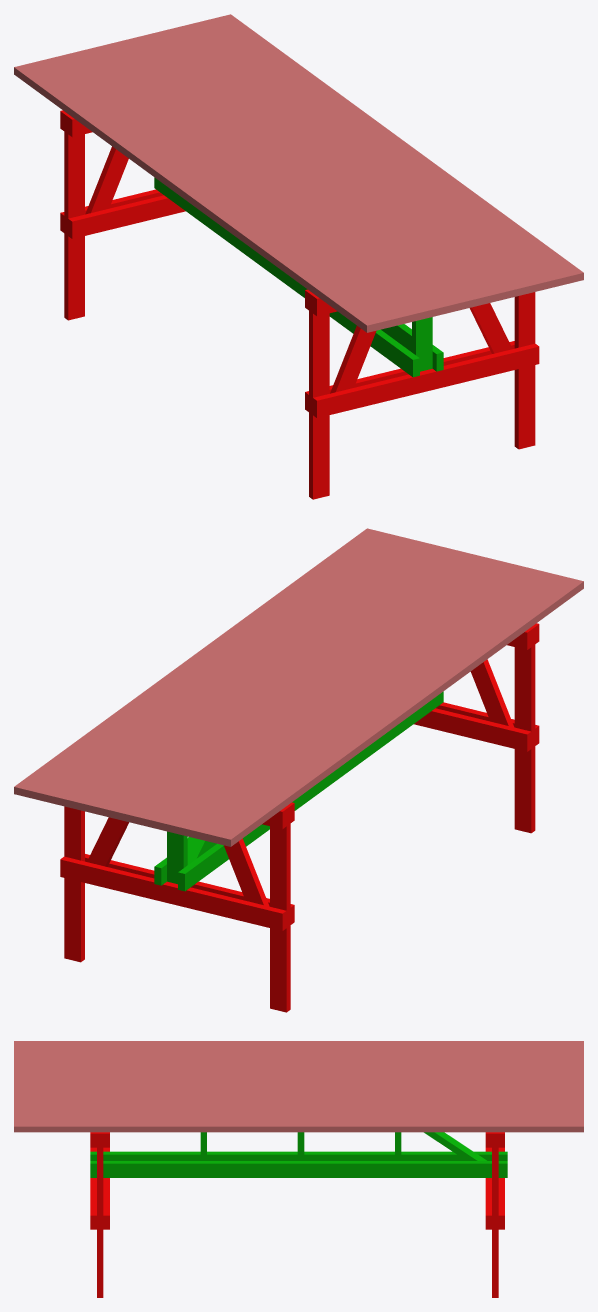
The model's file is result.glb.
3 renders of one model, top to bottom at view 1: azimuth 30°, elevation 25°; view 2: azimuth 150°, elevation 25°; view 3: azimuth 270°, elevation 25°, orthographic. The views are drawn at different scales.
Parts seen in each view (by area): view 1: b0ff7aa3-63b9-4274-8775-f03543e804c5__Box, 8a51c125-2184-49c3-aa8c-6ed3c1e245f1__undefined, 63a2d8ec-7d1e-43ad-b525-d0bd597307d5__undefined, 224cc83f-32d5-4830-80f7-22d6222e75fd__undefined, cf554587-6346-48e8-9315-8ca3bc5b0333__undefined, 17b7643c-f3f9-45be-bab3-a139f6fe4bf6__undefined, db4b5102-53e1-4171-a927-6ad9ff82a675__undefined, bbc29288-81eb-4e65-8e6f-227f224e3b87__undefined, c42242fd-0d0c-46da-bf98-edceeb7c8d5b__undefined, c6f3afab-13e9-4b4d-8a23-2f817cac41b8__undefined, 483e12ce-3217-46a9-8e0e-043e027c3335__undefined, faf76bed-afd3-4334-aac3-b5a1dc08d141__undefined (+13 smaller); view 2: b0ff7aa3-63b9-4274-8775-f03543e804c5__Box, 224cc83f-32d5-4830-80f7-22d6222e75fd__undefined, 63a2d8ec-7d1e-43ad-b525-d0bd597307d5__undefined, 8a51c125-2184-49c3-aa8c-6ed3c1e245f1__undefined, cf554587-6346-48e8-9315-8ca3bc5b0333__undefined, 17b7643c-f3f9-45be-bab3-a139f6fe4bf6__undefined, a9f0cf16-2922-4852-8234-135ff4b6b006__undefined, bbc29288-81eb-4e65-8e6f-227f224e3b87__undefined, c42242fd-0d0c-46da-bf98-edceeb7c8d5b__undefined, db4b5102-53e1-4171-a927-6ad9ff82a675__undefined, faf76bed-afd3-4334-aac3-b5a1dc08d141__undefined, 483e12ce-3217-46a9-8e0e-043e027c3335__undefined (+12 smaller); view 3: 483e12ce-3217-46a9-8e0e-043e027c3335__undefined, a4d03725-af21-4c59-820a-ca1d06299c51__strutH, 8a51c125-2184-49c3-aa8c-6ed3c1e245f1__undefined, cf554587-6346-48e8-9315-8ca3bc5b0333__undefined, faf76bed-afd3-4334-aac3-b5a1dc08d141__undefined, b0ff7aa3-63b9-4274-8775-f03543e804c5__Box, 63a2d8ec-7d1e-43ad-b525-d0bd597307d5__undefined, bbc29288-81eb-4e65-8e6f-227f224e3b87__undefined, c42242fd-0d0c-46da-bf98-edceeb7c8d5b__undefined, 224cc83f-32d5-4830-80f7-22d6222e75fd__undefined, c6f3afab-13e9-4b4d-8a23-2f817cac41b8__undefined, a9f0cf16-2922-4852-8234-135ff4b6b006__undefined (+10 smaller).
Part boxes in pixels (<box>): b0ff7aa3-63b9-4274-8775-f03543e804c5__Box: <box>14,63,383,332</box>; 8a51c125-2184-49c3-aa8c-6ed3c1e245f1__undefined: <box>31,59,400,328</box>; 63a2d8ec-7d1e-43ad-b525-d0bd597307d5__undefined: <box>48,55,417,324</box>; 224cc83f-32d5-4830-80f7-22d6222e75fd__undefined: <box>97,43,467,312</box>; cf554587-6346-48e8-9315-8ca3bc5b0333__undefined: <box>148,30,517,300</box>; 17b7643c-f3f9-45be-bab3-a139f6fe4bf6__undefined: <box>198,18,567,287</box>; db4b5102-53e1-4171-a927-6ad9ff82a675__undefined: <box>164,26,533,296</box>; bbc29288-81eb-4e65-8e6f-227f224e3b87__undefined: <box>64,51,433,320</box>; c42242fd-0d0c-46da-bf98-edceeb7c8d5b__undefined: <box>81,47,450,316</box>; c6f3afab-13e9-4b4d-8a23-2f817cac41b8__undefined: <box>114,38,483,308</box>; 483e12ce-3217-46a9-8e0e-043e027c3335__undefined: <box>214,14,583,283</box>; faf76bed-afd3-4334-aac3-b5a1dc08d141__undefined: <box>181,22,550,291</box>; b0ff7aa3-63b9-4274-8775-f03543e804c5__Box: <box>214,577,583,846</box>; 224cc83f-32d5-4830-80f7-22d6222e75fd__undefined: <box>130,557,499,826</box>; 63a2d8ec-7d1e-43ad-b525-d0bd597307d5__undefined: <box>180,569,550,838</box>; 8a51c125-2184-49c3-aa8c-6ed3c1e245f1__undefined: <box>197,573,566,842</box>; cf554587-6346-48e8-9315-8ca3bc5b0333__undefined: <box>80,544,449,814</box>; 17b7643c-f3f9-45be-bab3-a139f6fe4bf6__undefined: <box>30,532,399,801</box>; a9f0cf16-2922-4852-8234-135ff4b6b006__undefined: <box>97,548,466,818</box>; bbc29288-81eb-4e65-8e6f-227f224e3b87__undefined: <box>164,565,533,834</box>; c42242fd-0d0c-46da-bf98-edceeb7c8d5b__undefined: <box>147,561,516,830</box>; db4b5102-53e1-4171-a927-6ad9ff82a675__undefined: <box>64,540,433,810</box>; faf76bed-afd3-4334-aac3-b5a1dc08d141__undefined: <box>47,536,416,806</box>; 483e12ce-3217-46a9-8e0e-043e027c3335__undefined: <box>14,528,383,797</box>; 483e12ce-3217-46a9-8e0e-043e027c3335__undefined: <box>14,1120,583,1132</box>; a4d03725-af21-4c59-820a-ca1d06299c51__strutH: <box>90,1161,507,1177</box>; 8a51c125-2184-49c3-aa8c-6ed3c1e245f1__undefined: <box>14,1047,583,1054</box>; cf554587-6346-48e8-9315-8ca3bc5b0333__undefined: <box>14,1093,583,1100</box>; faf76bed-afd3-4334-aac3-b5a1dc08d141__undefined: <box>14,1106,583,1113</box>; b0ff7aa3-63b9-4274-8775-f03543e804c5__Box: <box>14,1041,583,1047</box>; 63a2d8ec-7d1e-43ad-b525-d0bd597307d5__undefined: <box>14,1054,583,1060</box>; bbc29288-81eb-4e65-8e6f-227f224e3b87__undefined: <box>14,1061,583,1067</box>; c42242fd-0d0c-46da-bf98-edceeb7c8d5b__undefined: <box>14,1067,583,1073</box>; 224cc83f-32d5-4830-80f7-22d6222e75fd__undefined: <box>14,1074,583,1080</box>; c6f3afab-13e9-4b4d-8a23-2f817cac41b8__undefined: <box>14,1080,583,1086</box>; a9f0cf16-2922-4852-8234-135ff4b6b006__undefined: <box>14,1087,583,1093</box>.
Size of the model in its own units: 800 by 725 by 2200.
